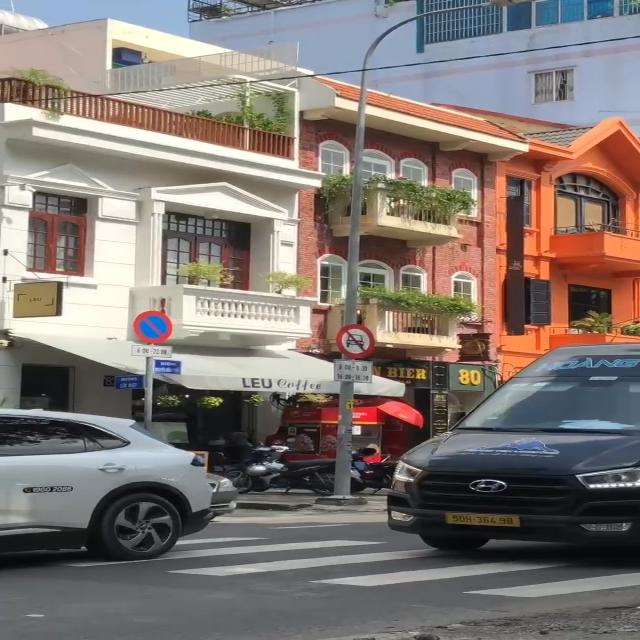Bien bao cam do xe: (130, 307, 179, 344)
Bien bao cam xe oto: (335, 324, 375, 358)
